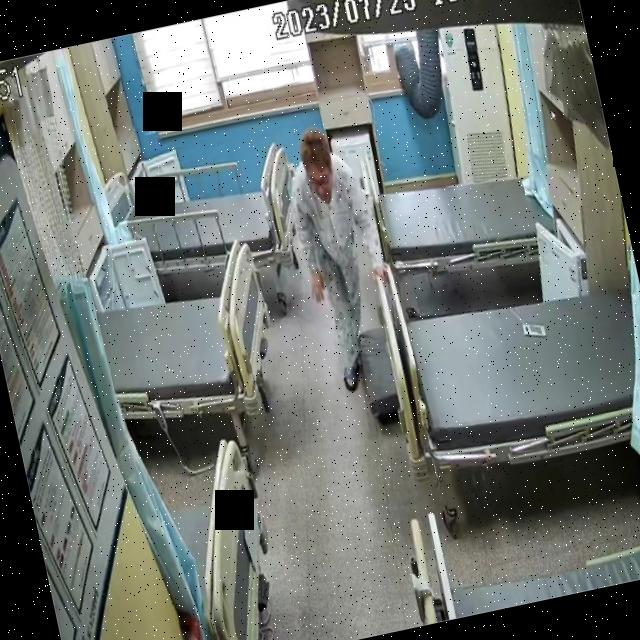bed: (397, 262, 640, 481), (86, 234, 292, 443), (101, 138, 307, 294), (358, 134, 560, 290)
danger: (278, 120, 412, 395)
patient: (278, 119, 411, 394)
